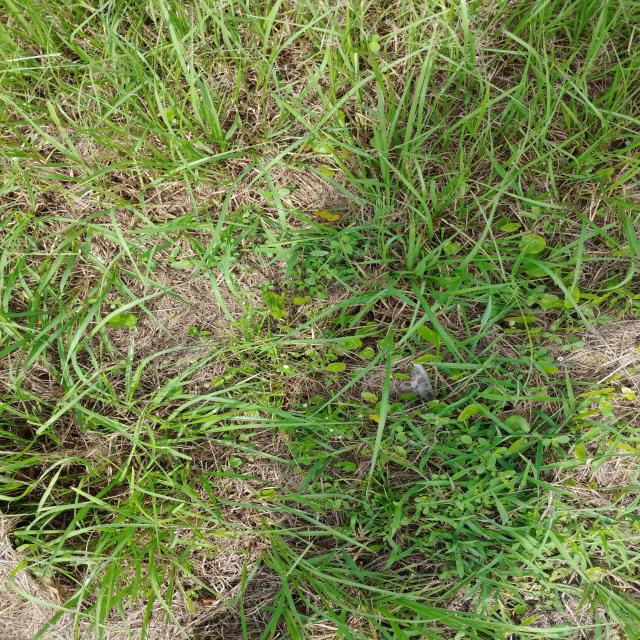litter: (480, 152, 536, 181)
